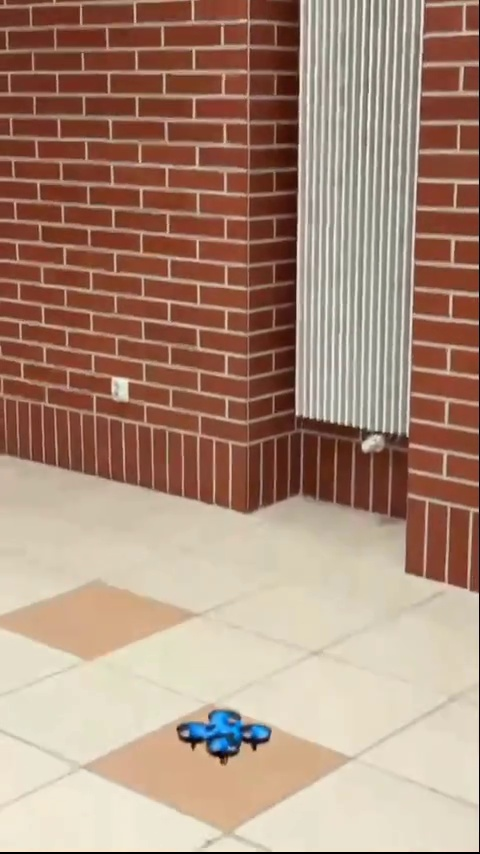drone: (179, 706, 278, 762)
